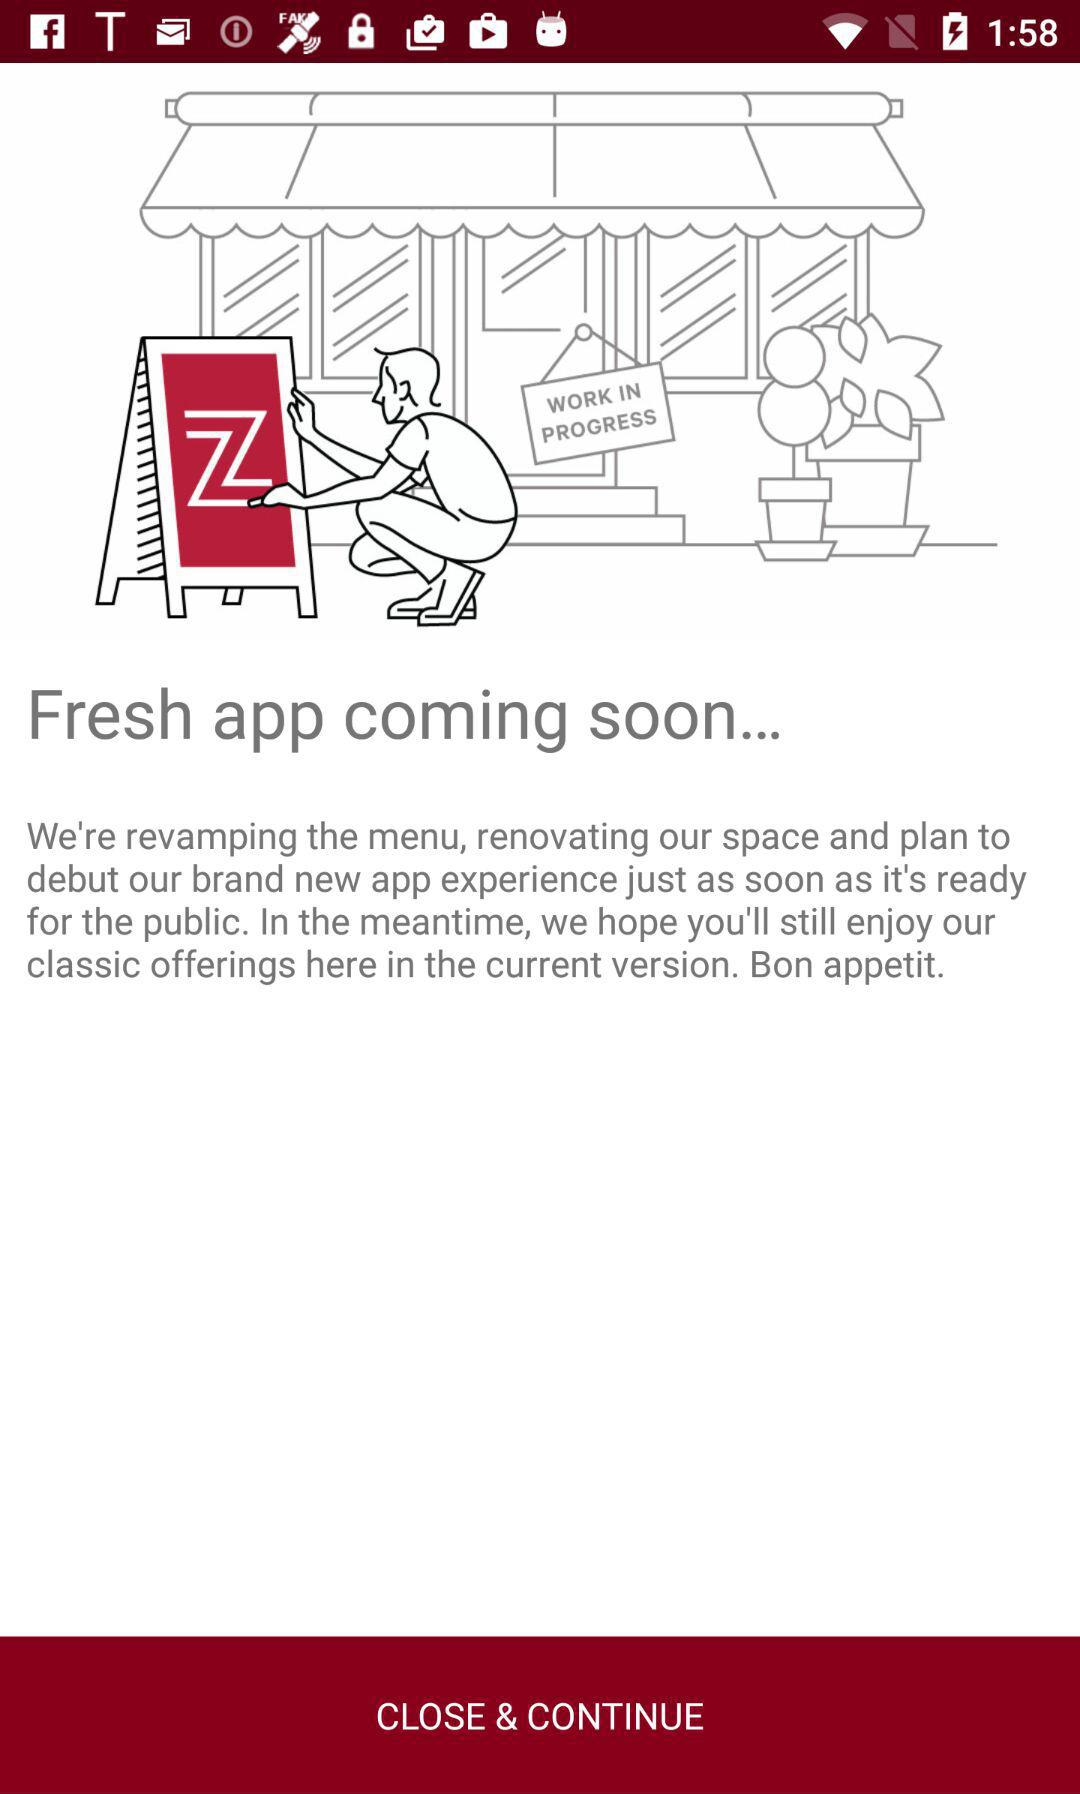Image: (85, 90, 1002, 627)
Text: (26, 820, 1027, 987), (31, 687, 780, 755)
TextButton: (1, 1636, 1080, 1794)
UpperTaskBar: (1, 1, 1080, 64)
